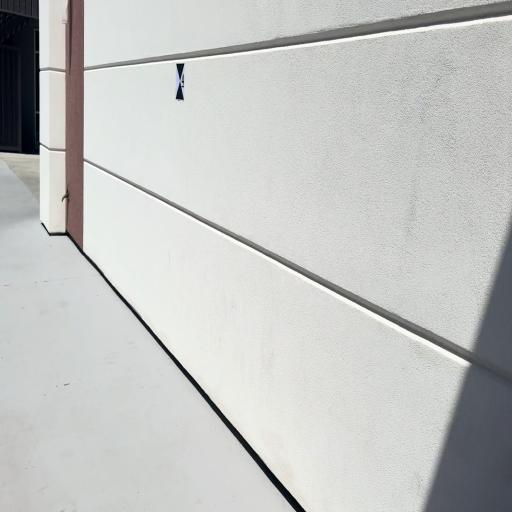target4: (175, 63, 185, 101)
